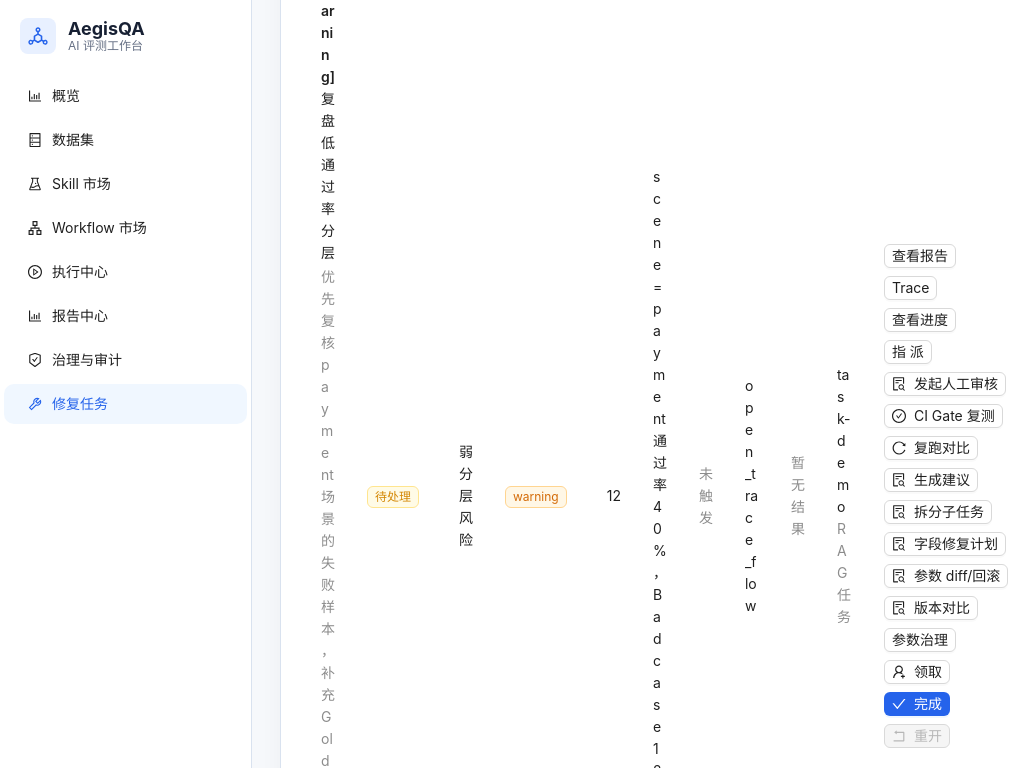
Scenario: 修复任务工作台 › 修复任务工作台支持发起人工审核和 CI Gate 复测动作
The image size is (1024, 768).
(page scrolled)
What coordinates should you click on to do the following:
click the button "发起人工审核"
I would click on:
 (945, 384)
Its box is left=884, top=372, right=1006, bottom=396.
(page scrolled)
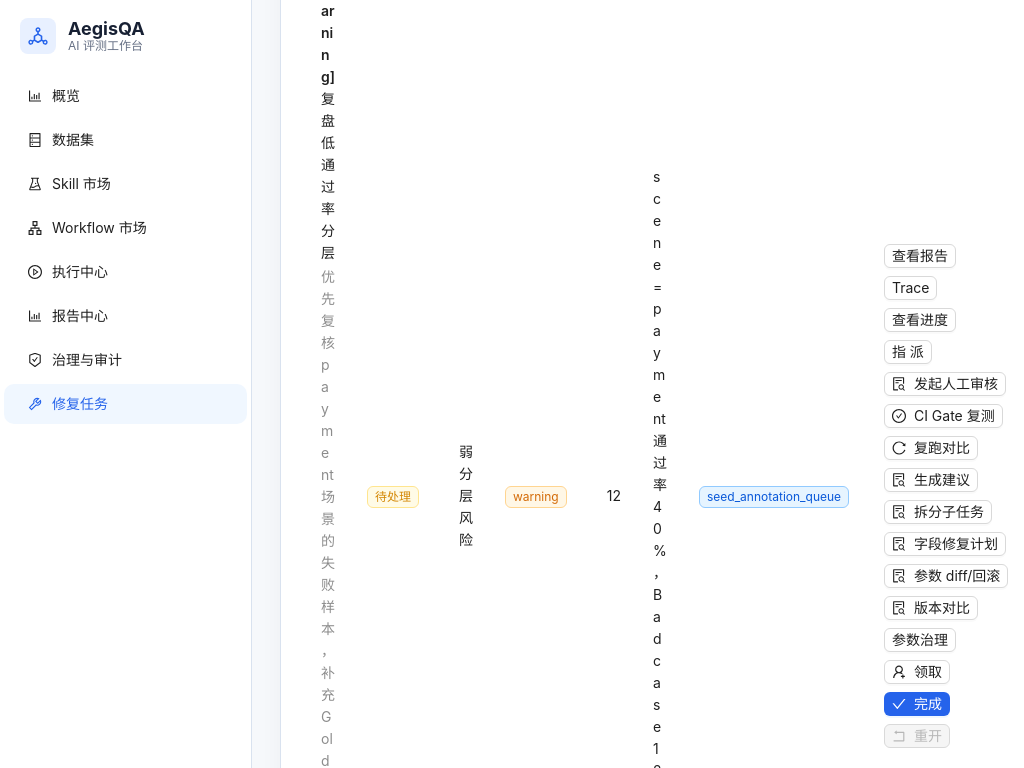
What coordinates should you click on to do the following:
click the button "CI Gate 复测"
I would click on:
 (943, 416)
Its box is left=884, top=404, right=1002, bottom=428.
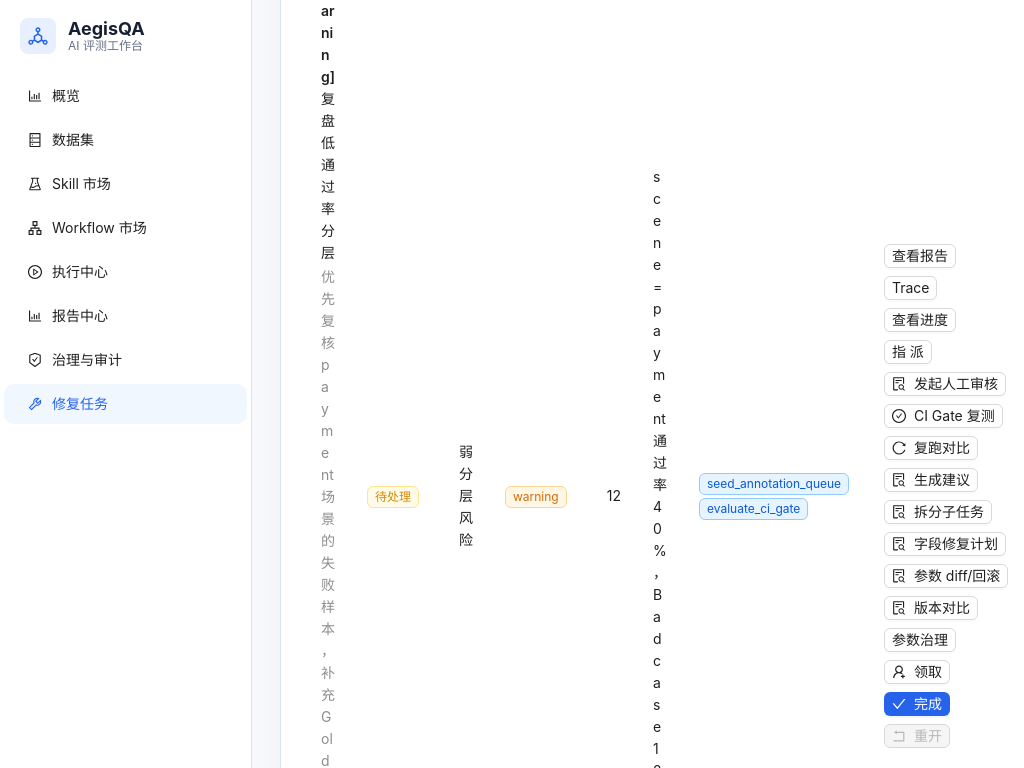
Check: the text "seed_annotation_queue" is shown, box left=699, top=473, right=849, bottom=495
Check: the text "evaluate_ci_gate" is shown, box left=699, top=498, right=808, bottom=520
